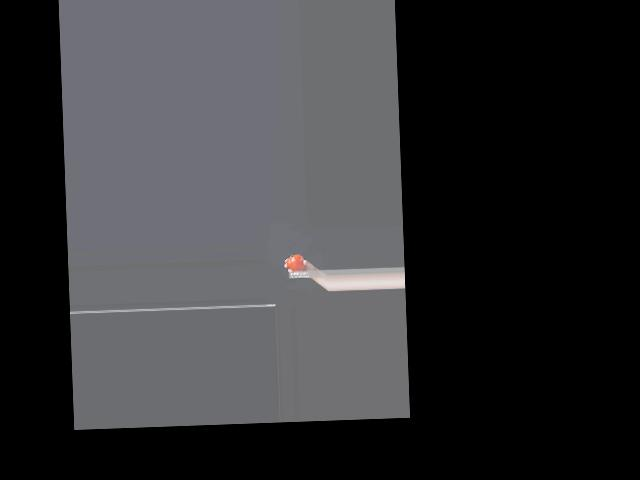tomato: (286, 254, 304, 272)
